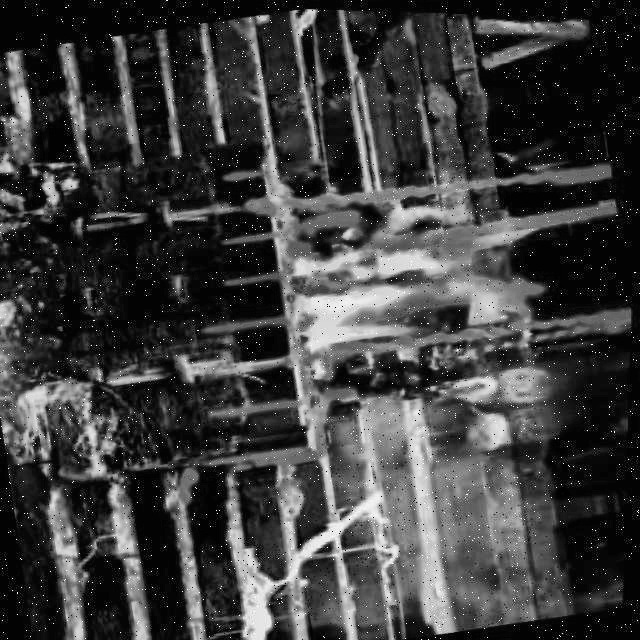Fire: (280, 209, 526, 364)
